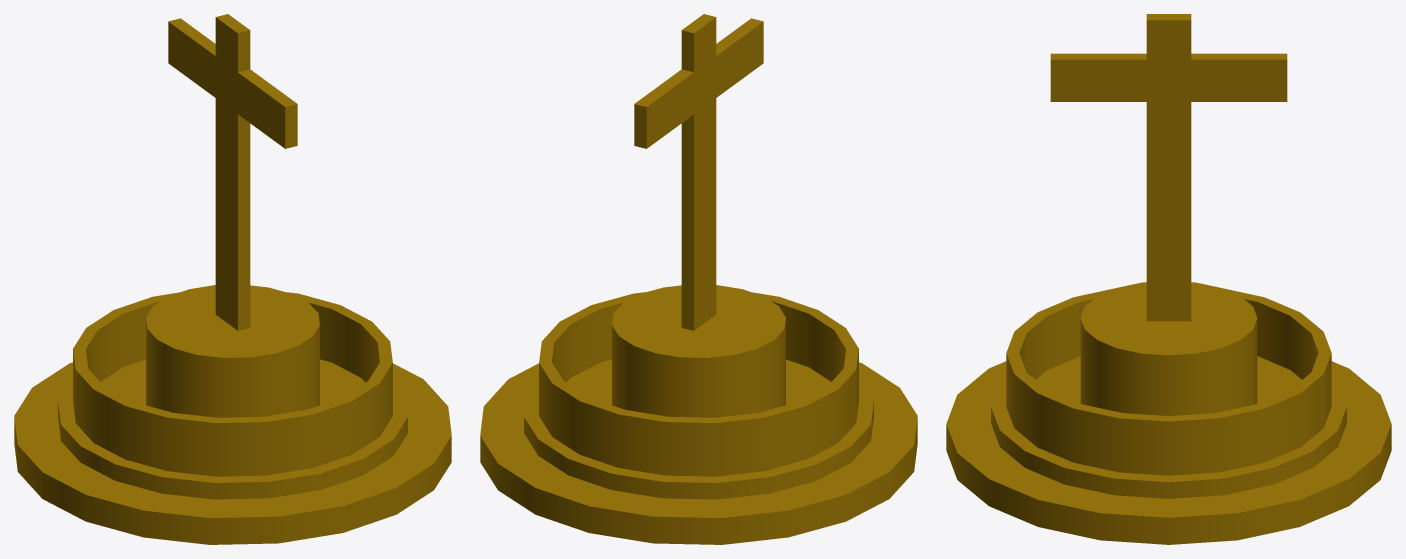
The model's file is Shrine.fbx.
The picture shows the model from 3 angles, left to right: view 1: azimuth 30°, elevation 25°; view 2: azimuth 150°, elevation 25°; view 3: azimuth 270°, elevation 25°; orthographic projection.
Parts seen in each view (by area): view 1: pasted__pCube1; view 2: pasted__pCube1; view 3: pasted__pCube1.
Part boxes in pixels (x1=…): pasted__pCube1: x1=14, y1=14, x2=451, y2=544; pasted__pCube1: x1=480, y1=14, x2=917, y2=544; pasted__pCube1: x1=946, y1=14, x2=1391, y2=544.
Size of the model in its own units: 6.62 by 7.12 by 6.62.
